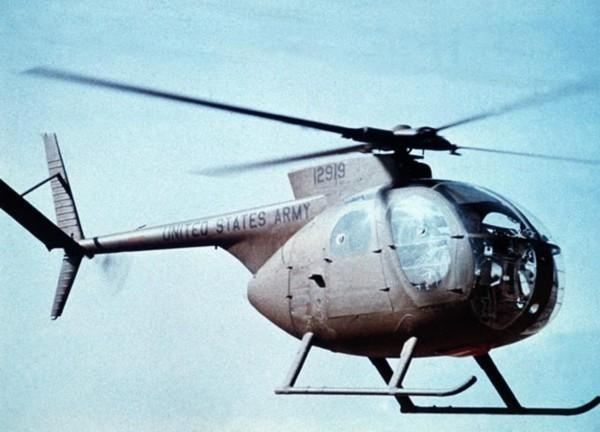airplane: (1, 108, 597, 426)
